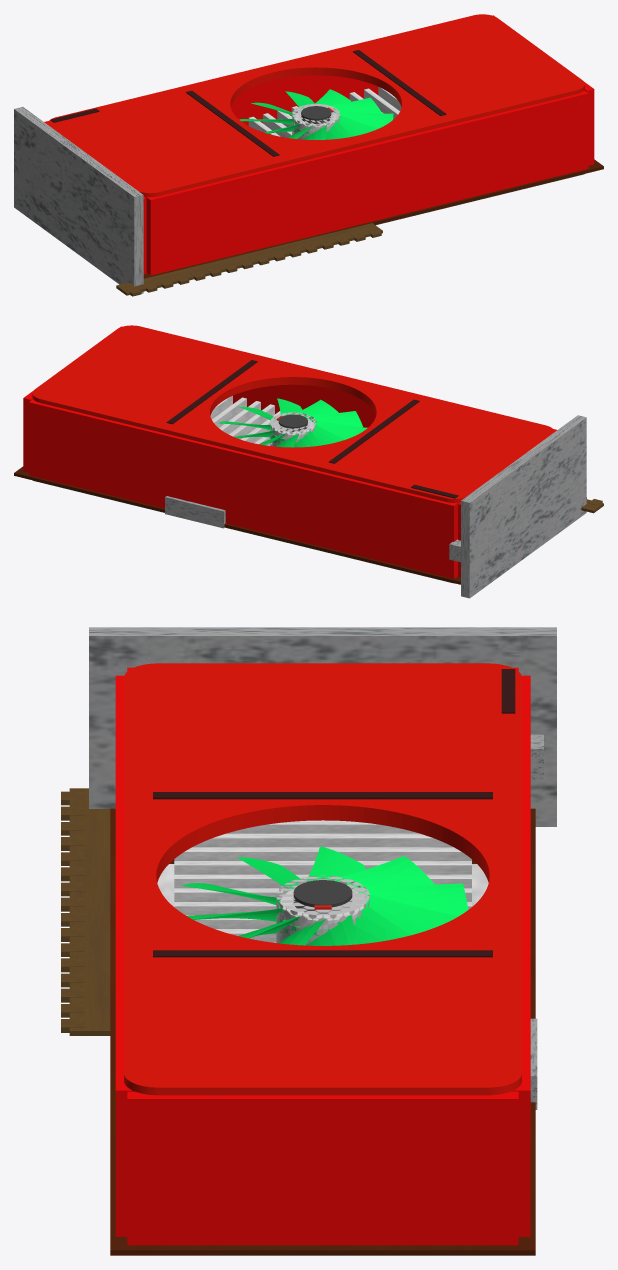
File: Technology_Graphics_Card__0097.glb
3 renders of one model, top to bottom at view 1: azimuth 30°, elevation 25°; view 2: azimuth 150°, elevation 25°; view 3: azimuth 270°, elevation 25°, orthographic. The views are drawn at different scales.
Parts seen in each view (by area): view 1: card_body::shroud_faceplate, card_body::skirt_wall_bottom, card_body::io_bracket_plate, card_body::skirt_wall_top, fan_0::rotor_blades, card_body::pcie_contact_bar, card_body::pcb, fan_0::hub_ring, card_body::copper_strip_0, card_body::copper_strip_1, card_body::skirt_wall_tail, fan_0::hub_cap (+1 smaller); view 2: card_body::shroud_faceplate, card_body::skirt_wall_top, card_body::io_bracket_plate, fan_0::rotor_blades, card_body::skirt_wall_bottom, card_body::pcb, card_body::power_connector_8pin_0, fan_0::hub_ring, card_body::copper_strip_0, card_body::copper_strip_1, card_body::skirt_wall_tail, card_body::cooling_fin_14 (+4 smaller); view 3: card_body::shroud_faceplate, card_body::skirt_wall_tail, card_body::io_bracket_plate, fan_0::rotor_blades, card_body::pcb, card_body::pcie_contact_bar, card_body::skirt_wall_bottom, card_body::skirt_wall_top, card_body::cooling_fin_3, card_body::cooling_fin_2, card_body::copper_strip_0, card_body::copper_strip_1 (+8 smaller).
Part boxes in pixels (x1,y1,x2,y2): card_body::shroud_faceplate: (47,14,584,197); card_body::skirt_wall_bottom: (146,90,588,275); card_body::io_bracket_plate: (14,107,143,293); card_body::skirt_wall_top: (44,75,378,125); fan_0::rotor_blades: (239,89,393,139); card_body::pcie_contact_bar: (116,223,382,295); card_body::pcb: (143,159,603,278); fan_0::hub_ring: (292,104,340,139); card_body::copper_strip_0: (186,90,279,156); card_body::copper_strip_1: (353,50,446,115); card_body::skirt_wall_tail: (493,15,594,165); fan_0::hub_cap: (301,106,331,123); card_body::shroud_faceplate: (32,325,553,503); card_body::skirt_wall_top: (29,399,458,578); card_body::io_bracket_plate: (461,415,586,598); fan_0::rotor_blades: (218,398,367,447); card_body::skirt_wall_bottom: (233,384,556,432); card_body::pcb: (14,466,460,584); card_body::power_connector_8pin_0: (165,496,225,528); fan_0::hub_ring: (270,412,316,446); card_body::copper_strip_0: (329,399,419,463); card_body::copper_strip_1: (166,360,257,424); card_body::skirt_wall_tail: (23,326,121,472); card_body::cooling_fin_14: (229,404,274,439); card_body::shroud_faceplate: (124,663,521,1095); card_body::skirt_wall_tail: (127,1091,518,1245); card_body::io_bracket_plate: (89,627,556,826); fan_0::rotor_blades: (181,846,468,945); card_body::pcb: (110,808,535,1255); card_body::pcie_contact_bar: (69,788,110,1035); card_body::skirt_wall_bottom: (115,675,132,1236); card_body::skirt_wall_top: (513,675,530,1236); card_body::cooling_fin_3: (174,847,471,860); card_body::cooling_fin_2: (192,833,453,847); card_body::copper_strip_0: (153,792,492,799); card_body::copper_strip_1: (153,950,492,957).
Bounding box in the file's own units: 0.3214 × 0.0663 × 0.1458.
16 materials, 12 textured.
